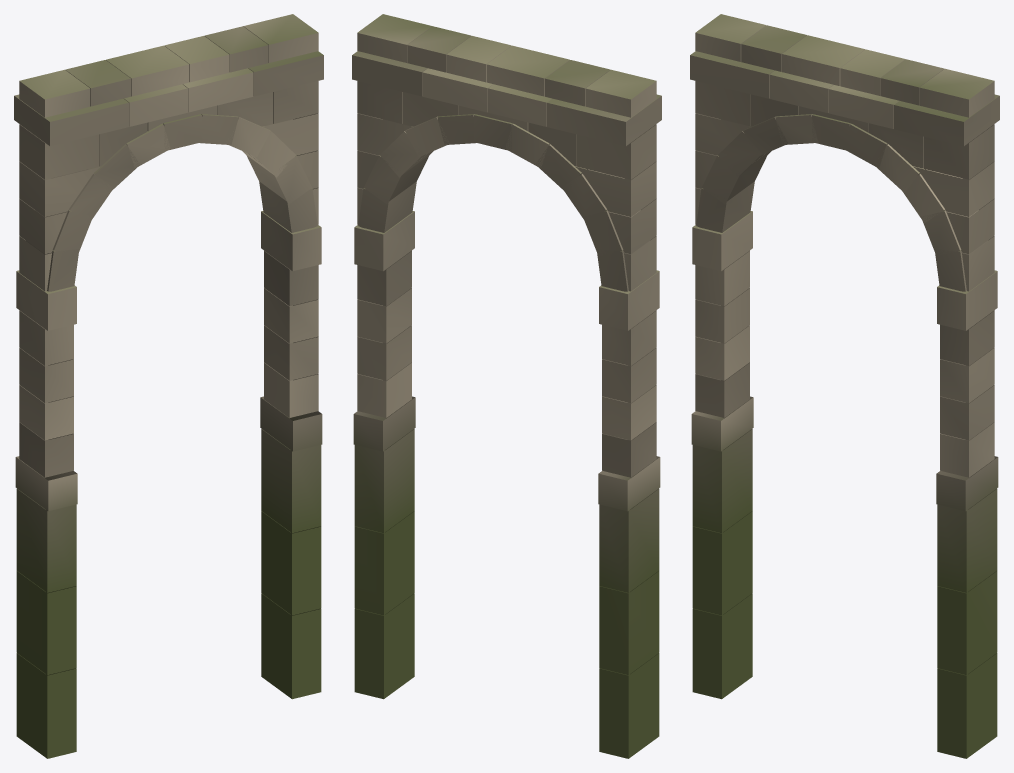
The model's file is sanctuary_arch_mid.glb.
3 renders of one model, left to right at view 1: azimuth 30°, elevation 25°; view 2: azimuth 150°, elevation 25°; view 3: azimuth 330°, elevation 25°, orthographic.
Visible parts, largest first — view 1: sanctuary_arch_mid; view 2: sanctuary_arch_mid; view 3: sanctuary_arch_mid.
Part boxes in pixels (x1=…): sanctuary_arch_mid: x1=14, y1=14, x2=323, y2=758; sanctuary_arch_mid: x1=352, y1=14, x2=661, y2=758; sanctuary_arch_mid: x1=690, y1=14, x2=999, y2=758.
Bounding box in the file's own units: 18.47 × 42.37 × 4.2.
